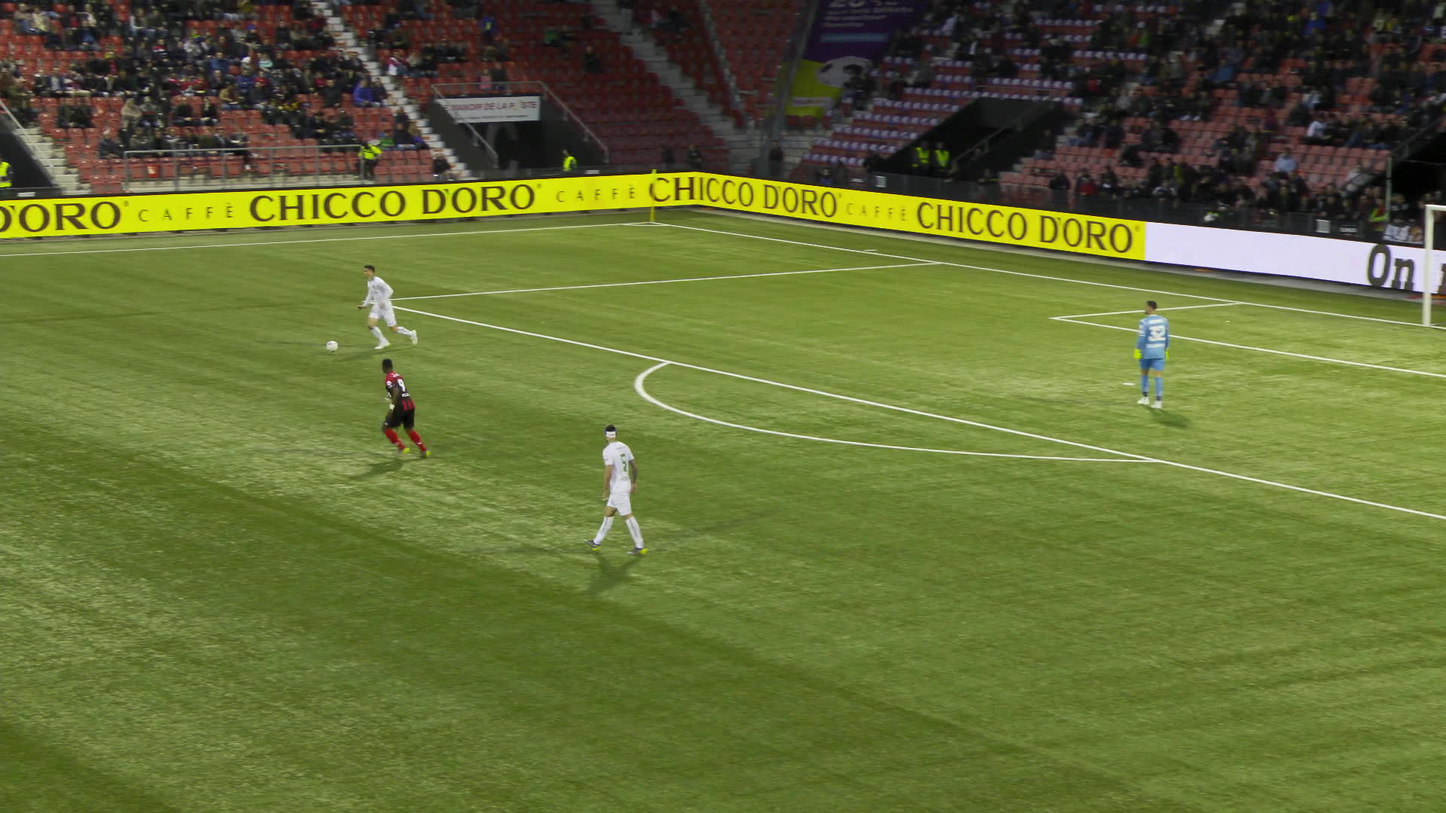ball: (326, 340, 337, 349)
player: (587, 425, 648, 555), (380, 358, 429, 457), (353, 265, 410, 348), (1130, 300, 1170, 408)
